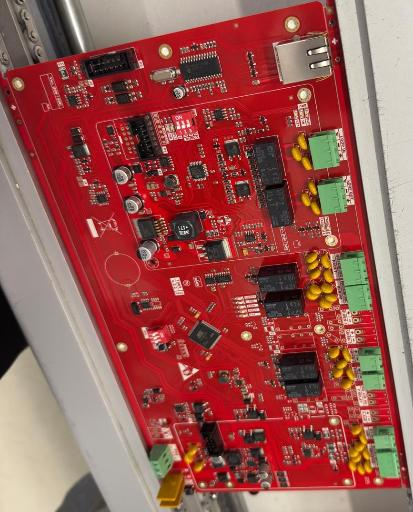var: (156, 473, 186, 507), (297, 133, 308, 150), (301, 155, 312, 171), (310, 199, 321, 215), (306, 287, 319, 300), (319, 297, 333, 309), (291, 146, 302, 161), (301, 191, 311, 207), (321, 253, 331, 269), (309, 267, 321, 280), (321, 281, 334, 293), (328, 346, 340, 359), (193, 459, 205, 472), (323, 269, 334, 283), (342, 346, 351, 362), (332, 366, 344, 378), (324, 293, 338, 303), (308, 180, 317, 195), (306, 252, 318, 263), (340, 378, 352, 389), (346, 366, 355, 380), (357, 461, 366, 475), (351, 424, 362, 435), (187, 445, 198, 456), (359, 432, 367, 446), (364, 459, 372, 473), (336, 359, 347, 369)
